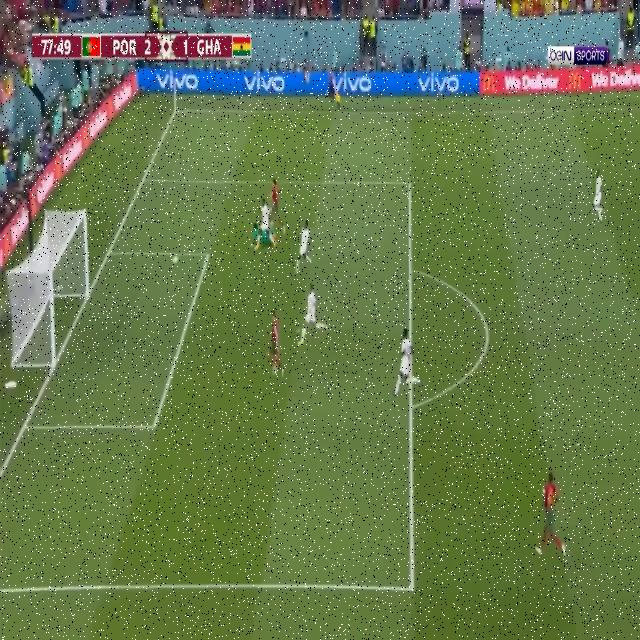Ball: (172, 255, 179, 265)
GoalKeeper: (248, 222, 280, 249)
Referee: (326, 63, 343, 119)
TEAM 1: (536, 469, 566, 564), (266, 307, 285, 382), (270, 178, 286, 236)
TEAM 2: (390, 323, 420, 400), (296, 284, 328, 348), (590, 168, 607, 229), (259, 197, 274, 255), (297, 218, 309, 280)
